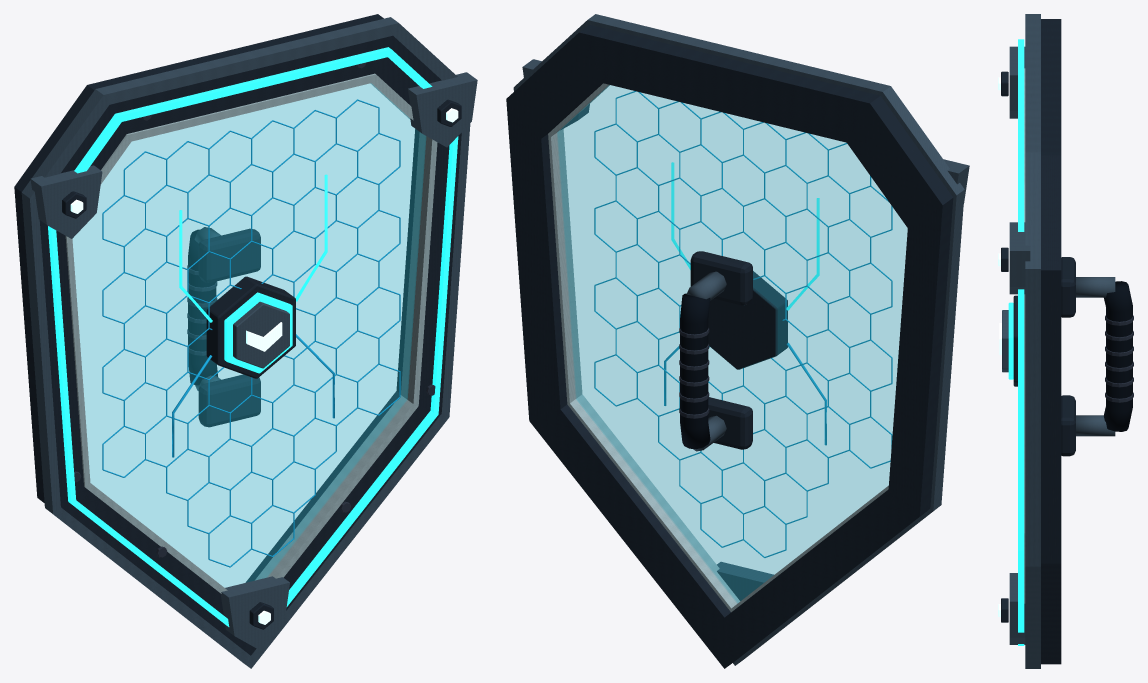
The model's file is EnergyShield.fbx.
3 renders of one model, left to right at view 1: azimuth 30°, elevation 25°; view 2: azimuth 150°, elevation 25°; view 3: azimuth 270°, elevation 25°, orthographic. The views are drawn at different scales.
Visible parts, largest first — view 1: SM_EnergyShield; view 2: SM_EnergyShield; view 3: SM_EnergyShield.
Part boxes in pixels (box(x1,y1,x2,y2)): SM_EnergyShield: box(14, 14, 477, 668); SM_EnergyShield: box(506, 14, 969, 668); SM_EnergyShield: box(998, 14, 1133, 668).
Bounding box in the file's own units: 116 × 32 × 152.
Materials: 2 (1 with a texture image).
